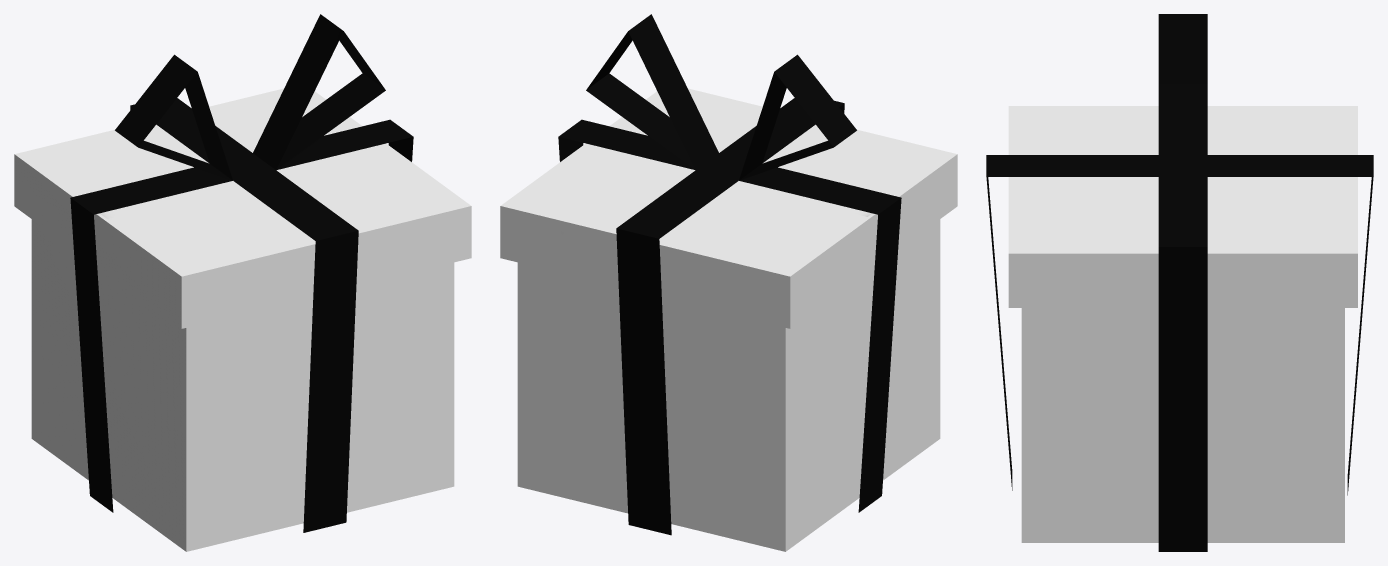
File: Gift.fbx
3 views of the same model, side by side, from view 1: azimuth 30°, elevation 25°; view 2: azimuth 150°, elevation 25°; view 3: azimuth 270°, elevation 25° (orthographic). The views are drawn at different scales.
Parts seen in each view (by area): view 1: Cube; view 2: Cube; view 3: Cube.
Part boxes in pixels (bbox=[...]): Cube: bbox=[14, 14, 471, 551]; Cube: bbox=[500, 14, 957, 551]; Cube: bbox=[986, 14, 1373, 551].
Bounding box in the file's own units: 239 × 305 × 239.
